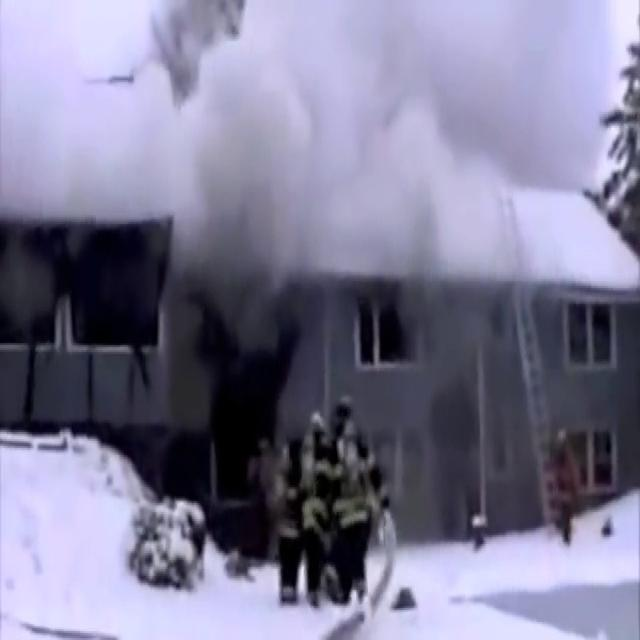Smoke: (319, 13, 599, 225), (164, 1, 326, 300), (385, 262, 544, 532)
